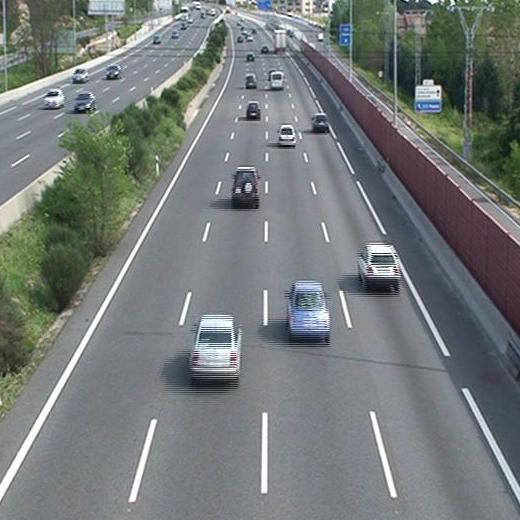car: (187, 315, 243, 381), (285, 282, 331, 341), (357, 242, 402, 287), (231, 165, 260, 205), (276, 124, 297, 145), (311, 112, 330, 132), (245, 100, 263, 119), (244, 74, 258, 90), (245, 52, 255, 61)
truck: (274, 29, 287, 55)
van: (270, 71, 285, 89)
